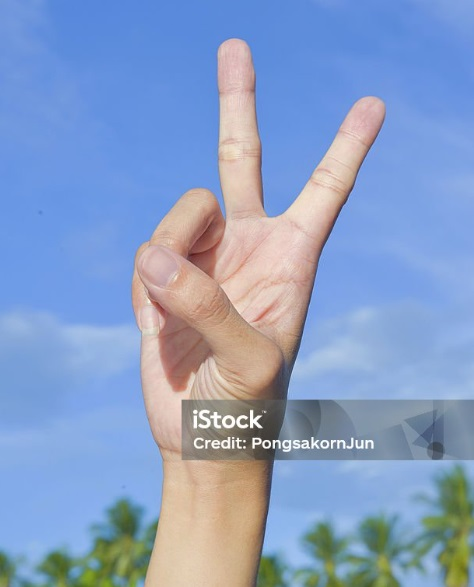peace: (132, 35, 388, 460)
